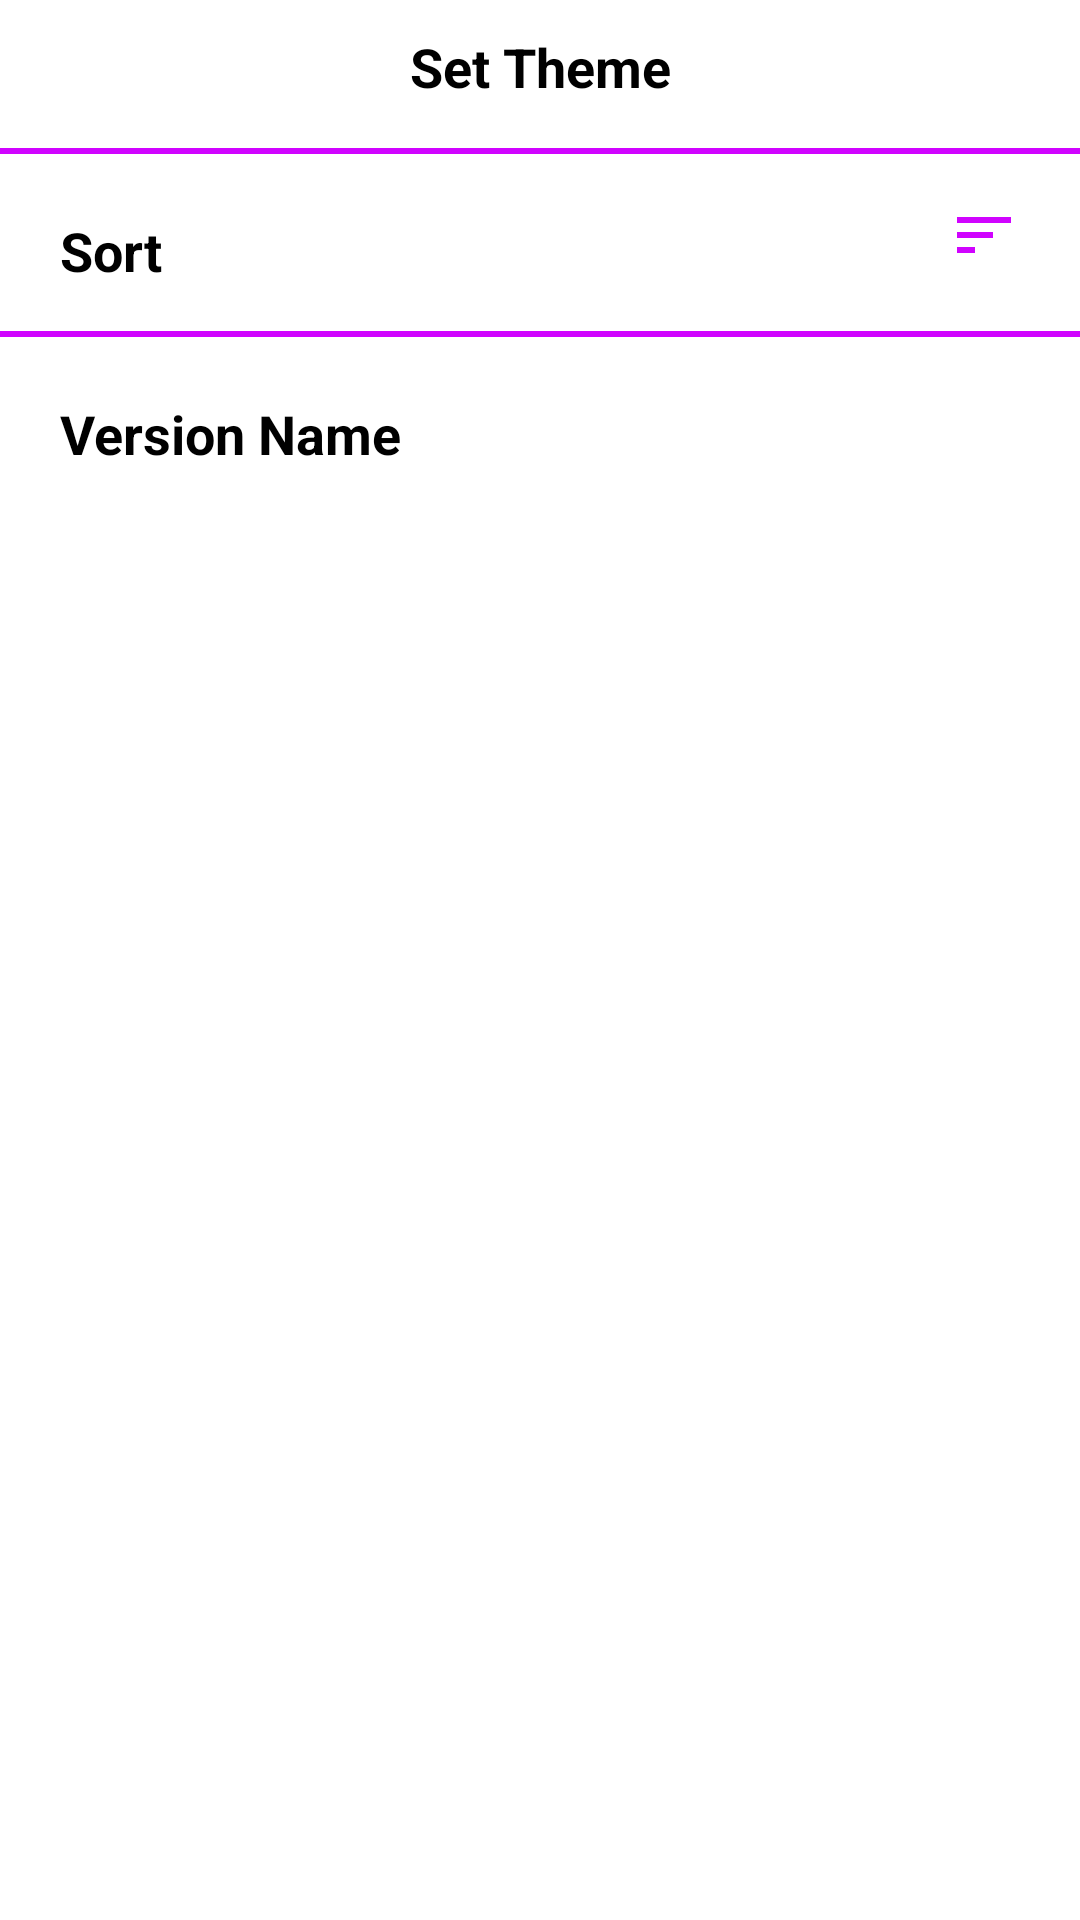

Screen size 1080px x 1920px. Icon name, then its box in pixels as (x1, y1, x2, y2):
sort: (957, 217, 1011, 253)
